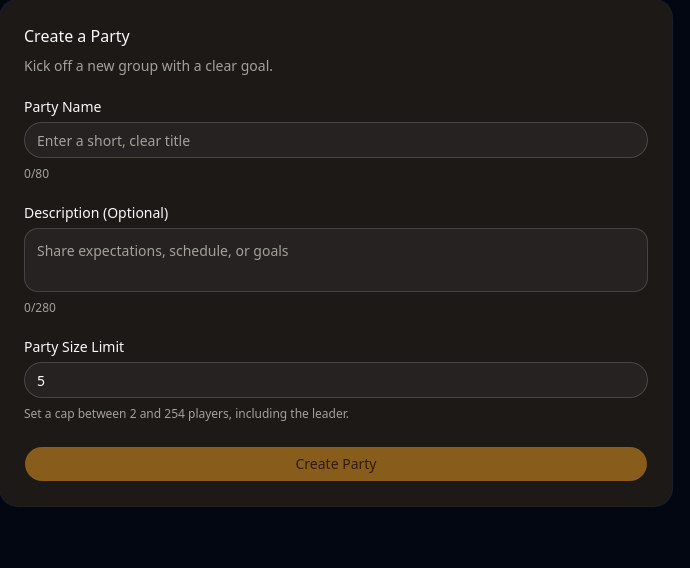
it: CreatePartyForm integration › shows submit error when mutation fails
Type "Fail Party" into the field labelled "Party Name" at (336, 140), box [24,122,648,158]
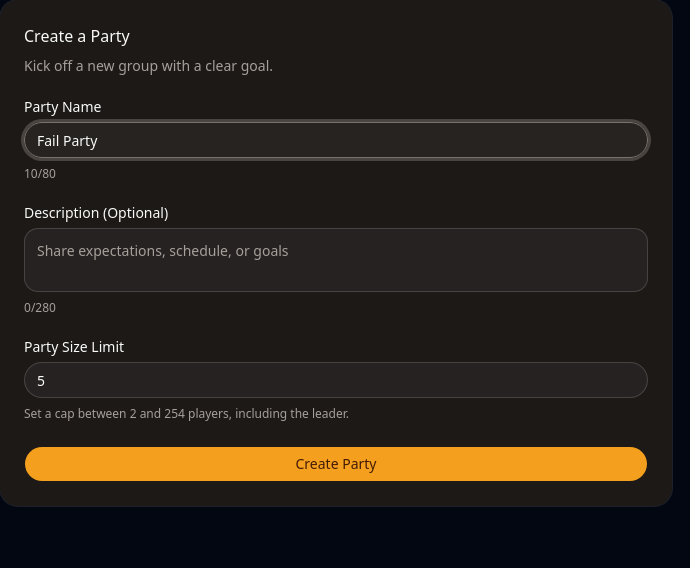
Click the button "Create Party" at (336, 464), box [24,446,648,482]
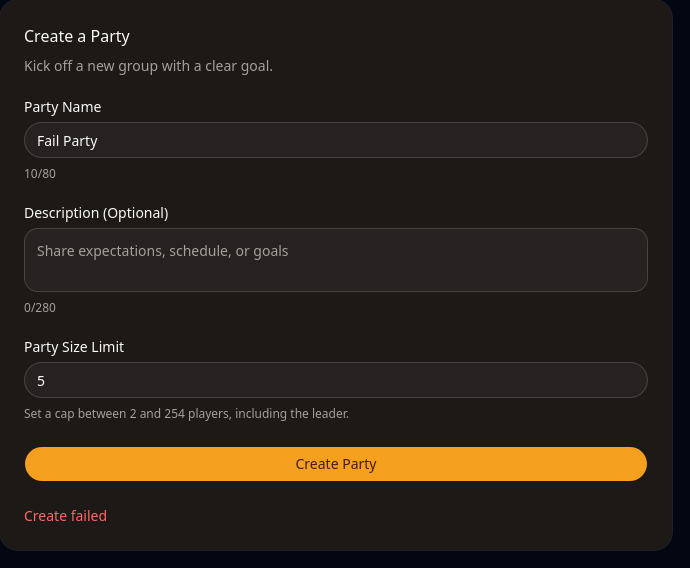
Check: the text "Create failed" is shown, box [24,506,107,525]
